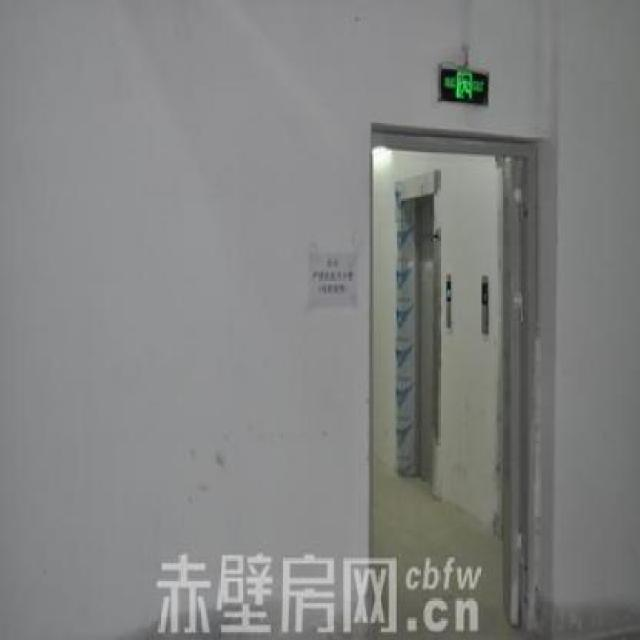exit_sign: (436, 55, 492, 108)
